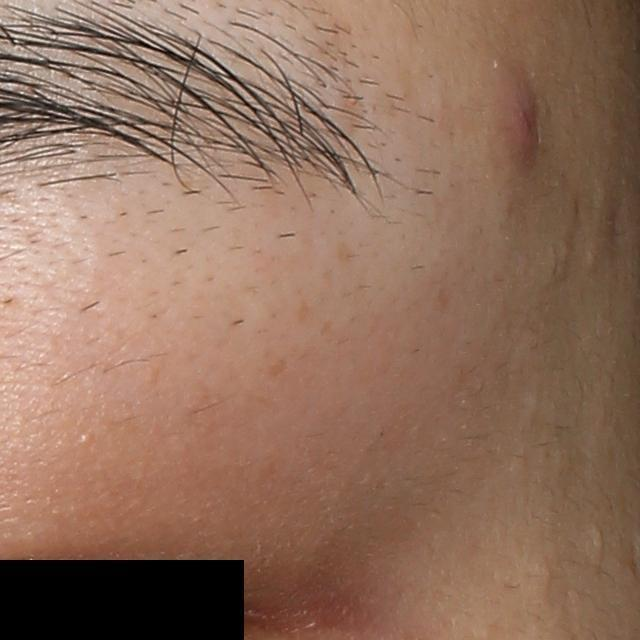melasma: (265, 358, 292, 379)
papule: (493, 70, 544, 162)
